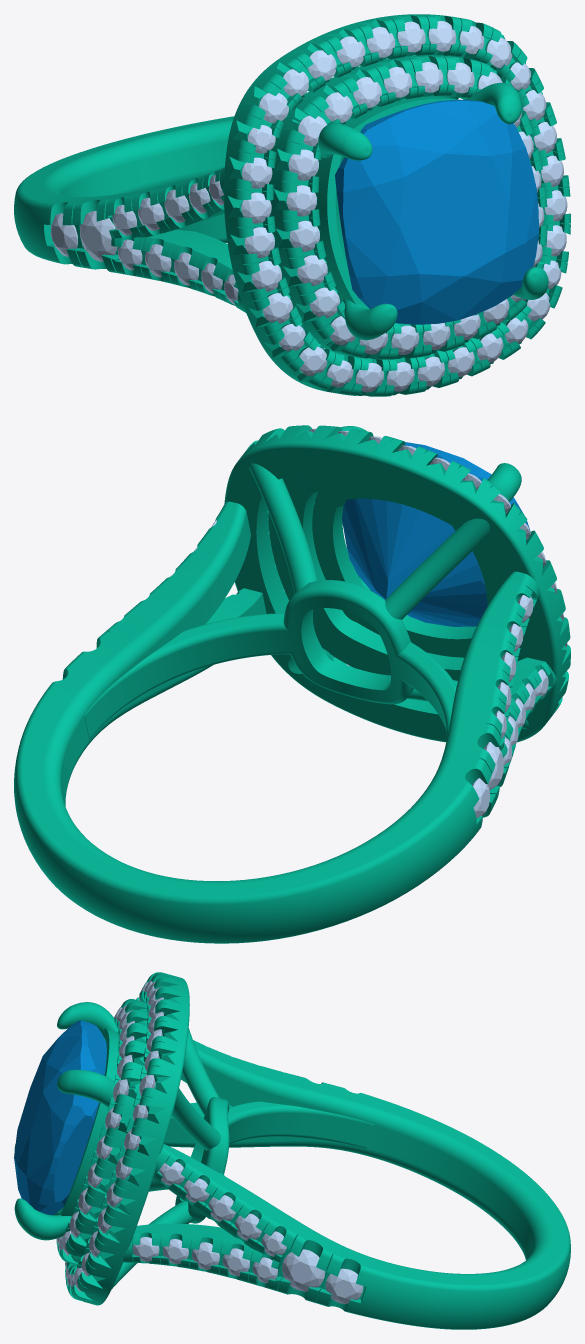
3 renders of one model, top to bottom at view 1: azimuth 30°, elevation 25°; view 2: azimuth 150°, elevation 25°; view 3: azimuth 270°, elevation 25°, orthographic. The views are drawn at different scales.
Parts seen in each view (by area): view 1: VR459(base).3dm, Diamond_Cushion Square, Diamond_Round (×50), Head Prong (×4), Bezel; view 2: VR459(base).3dm, Diamond_Cushion Square, Bezel, Head Prong; view 3: VR459(base).3dm, Diamond_Cushion Square, Diamond_Round (×12), Head Prong (×3), Bezel.
Part boxes in pixels (<box>): VR459(base).3dm: <box>14,14,570,396</box>; Diamond_Cushion Square: <box>335,99,538,324</box>; Diamond_Round (×50): <box>50,21,567,392</box>; Head Prong (×4): <box>318,83,548,340</box>; Bezel: <box>314,96,457,309</box>; VR459(base).3dm: <box>14,425,570,943</box>; Diamond_Cushion Square: <box>342,442,530,626</box>; Bezel: <box>312,490,494,657</box>; Head Prong: <box>452,463,521,530</box>; VR459(base).3dm: <box>56,972,570,1329</box>; Diamond_Cushion Square: <box>14,1020,106,1215</box>; Diamond_Round (×12): <box>132,1161,363,1303</box>; Head Prong (×3): <box>14,1002,118,1240</box>; Bezel: <box>53,1028,119,1216</box>.
Bounding box in the file's own units: 2.22 × 1.64 × 2.89.
